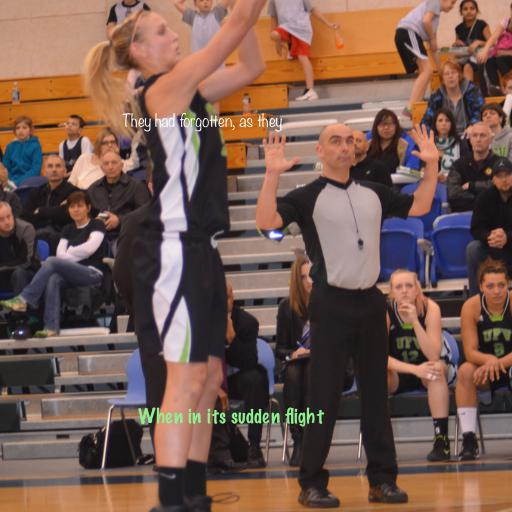Marker Felt: (137, 407, 323, 427)
Noteworthy: (122, 112, 282, 132)
